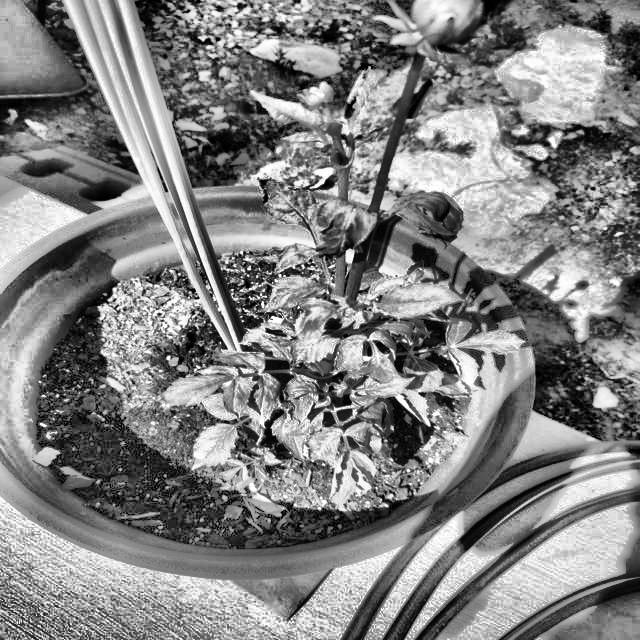plants: (206, 27, 528, 500)
